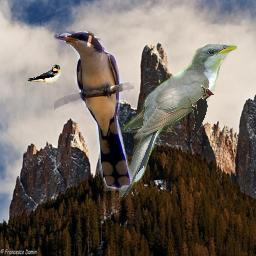Cuckoo: (119, 44, 237, 197), (54, 31, 134, 191)
Swallow: (20, 64, 61, 85)
Woodpecker: (188, 85, 214, 142)
